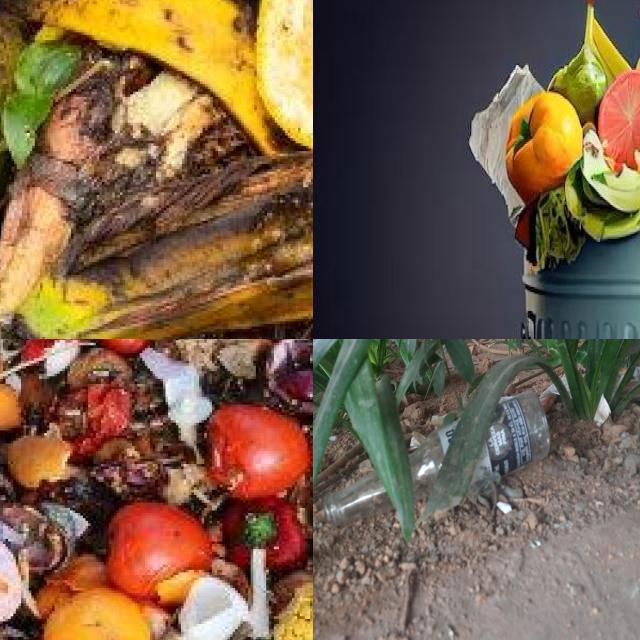Garbage: (0, 339, 313, 640), (313, 339, 640, 625), (464, 0, 640, 274)
Glass_bottle: (472, 392, 550, 489), (409, 423, 457, 502), (324, 474, 392, 526)
